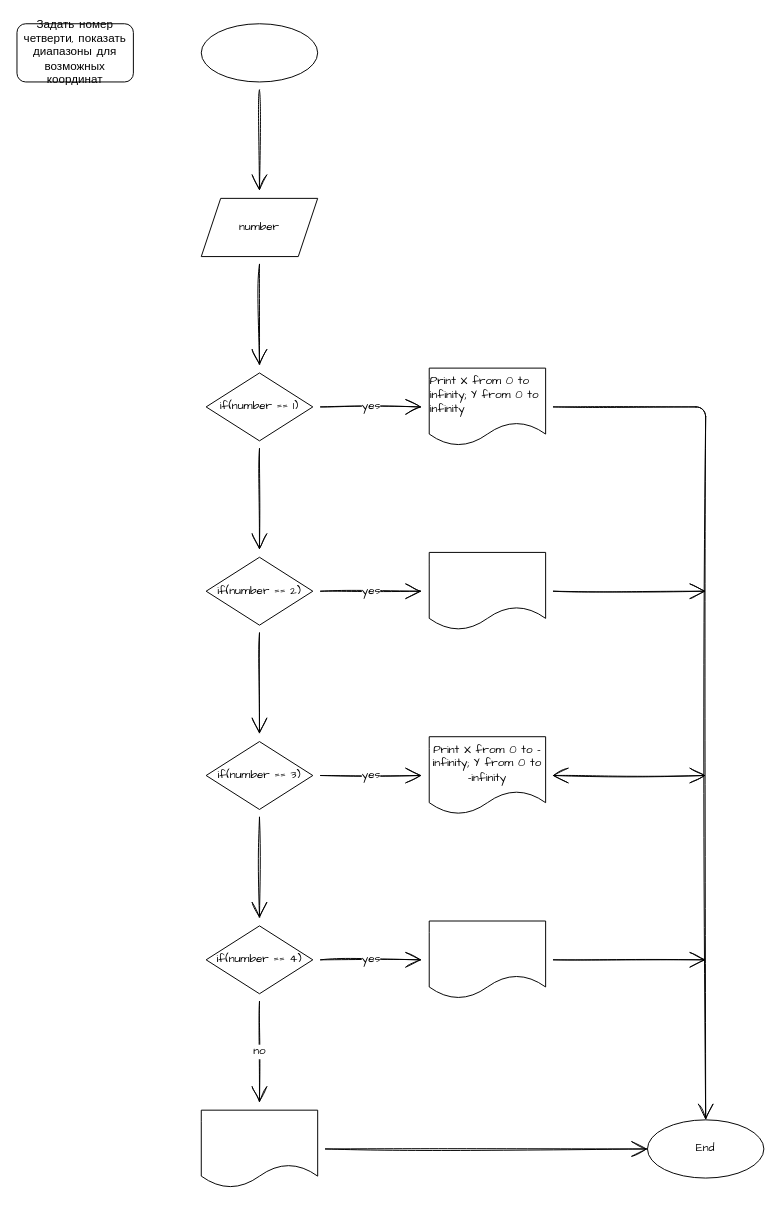
This 781x1205 diagram has some shape labels left out. The shapes that lost their labels are listed below. From the top down, each one's centre as x and y in pixels, then its label:
the point at 259,52: Start
the point at 487,590: Print X from 0 to -infinity; Y from 0 to infinity
the point at 487,959: Print X from 0 to infinity; Y from 0 to -infinity
the point at 259,1148: Print there is no such number plane of a quarter
